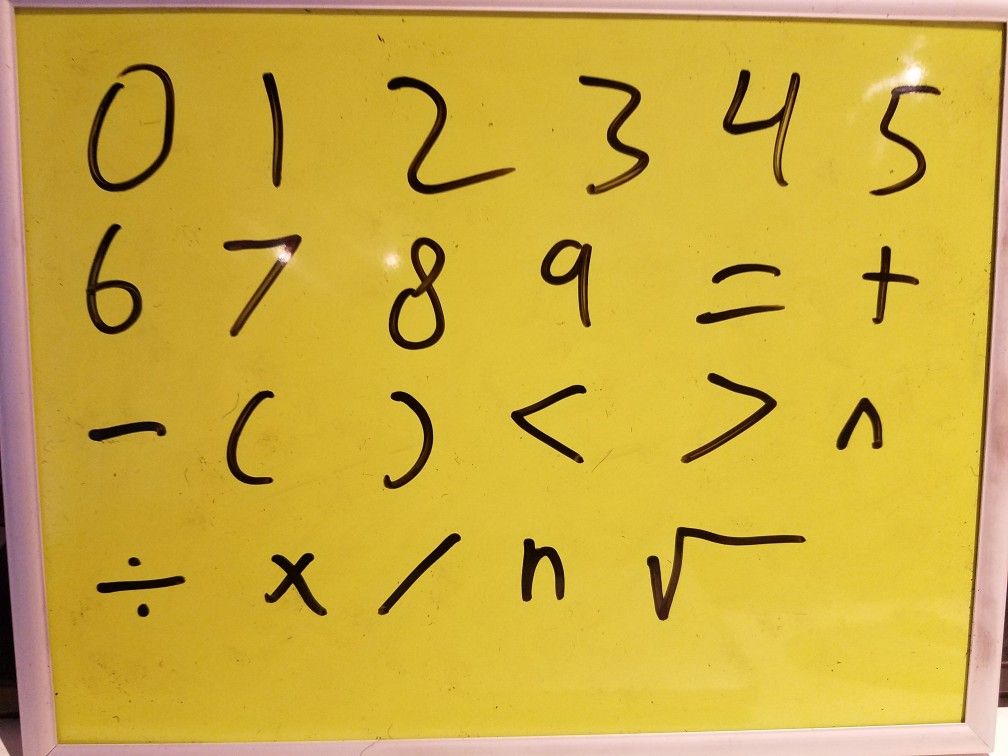(: (210, 377, 287, 501)
): (375, 381, 438, 500)
+: (845, 235, 929, 340)
-: (71, 397, 176, 459)
/: (370, 523, 468, 626)
0: (74, 41, 180, 203)
1: (228, 56, 307, 197)
2: (368, 57, 529, 210)
3: (568, 52, 658, 204)
4: (704, 52, 810, 194)
5: (836, 65, 954, 211)
6: (73, 213, 160, 353)
7: (200, 212, 310, 358)
8: (370, 227, 468, 363)
9: (538, 227, 612, 346)
<: (500, 373, 606, 473)
=: (682, 245, 805, 342)
>: (670, 356, 777, 469)
^: (827, 381, 898, 463)
div: (87, 542, 192, 627)
n: (510, 523, 570, 613)
sqrt: (629, 510, 827, 645)
x: (251, 536, 335, 638)
